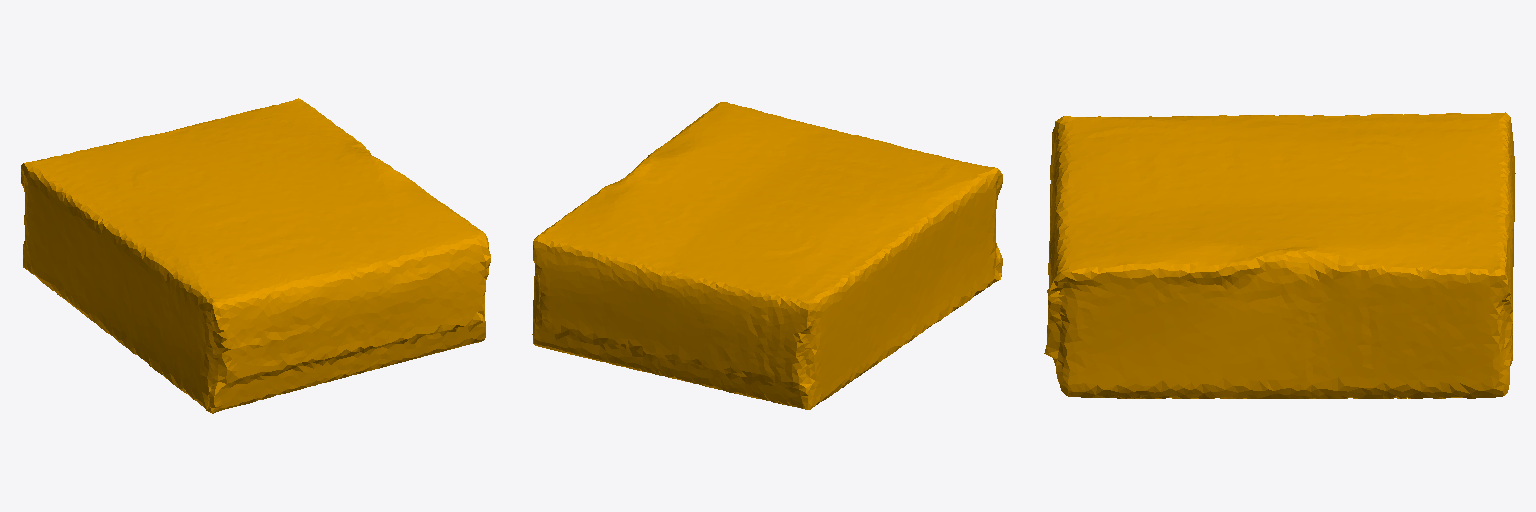
The robot description file, URDF, robot "potted_meat_can":
<?xml version="1.0"?>
<robot name="potted_meat_can">
  <link name="potted_meat_can">
    <contact>
      <friction_anchor/>
      <lateral_friction value="0.6"/>
      <spinning_friction value="0.0005"/>
      <rolling_friction value="0.0005"/>
      <contact_cfm value="0.0"/>
      <contact_erp value="1.0"/>
    </contact>
    <visual>
      <origin xyz="0.0 0.0 0.0"/>
      <geometry>
        <mesh filename="textured_simple.obj" scale="1.0 1.0 1.0"/>
      </geometry>
    </visual>
    <collision>
      <origin xyz="0.0 0.0 0.0"/>
      <geometry>
        <mesh filename="textured_simple.obj" scale="1.0 1.0 1.0"/>
      </geometry>
    </collision>
    <inertial>
      <!-- Mass value from the *empty* spam can. Full spam can is 368g -->
      <mass value="0.097"/> 
      <inertia ixx="0.0001" ixy="0.0" ixz="0.0" iyy="0.0001" iyz="0.0" izz="0.0001"/>
    </inertial>
  </link>
</robot>

--- Render facts (derived) ---
The picture shows the robot from 3 angles, left to right: view 1: azimuth 30°, elevation 25°; view 2: azimuth 150°, elevation 25°; view 3: azimuth 270°, elevation 25°; orthographic projection.
Robot: potted_meat_can — 1 links, 0 joints (none); root link potted_meat_can; default pose: all joints at 0.
Links seen in each view (by area): view 1: potted_meat_can; view 2: potted_meat_can; view 3: potted_meat_can.
Link boxes in pixels (<box>): potted_meat_can: <box>21,98,490,413</box>; potted_meat_can: <box>532,102,1002,409</box>; potted_meat_can: <box>1044,112,1515,398</box>.
Size in the robot's own frame: 0.0729 by 0.0896 by 0.0301 metres.
Meshes: 1 distinct files referenced, 1 mesh visuals loaded (1 OBJ).